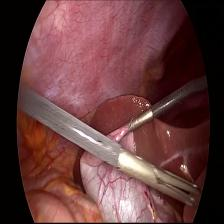Grasper: (133, 154, 203, 215), (120, 113, 139, 141)
